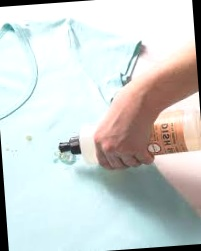oil: (52, 152, 75, 167), (4, 147, 18, 158), (24, 131, 37, 142)
